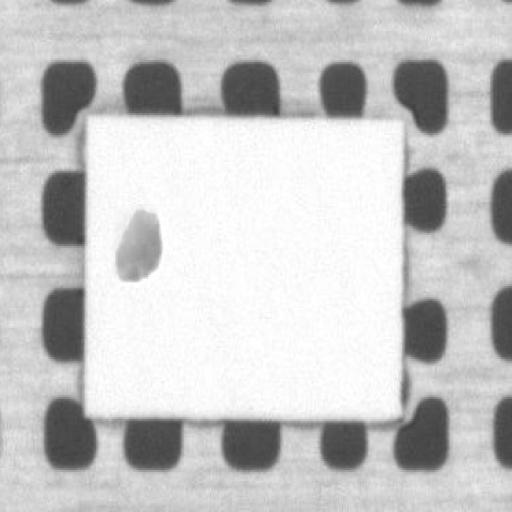DIE_INK: (136, 146, 228, 220)
